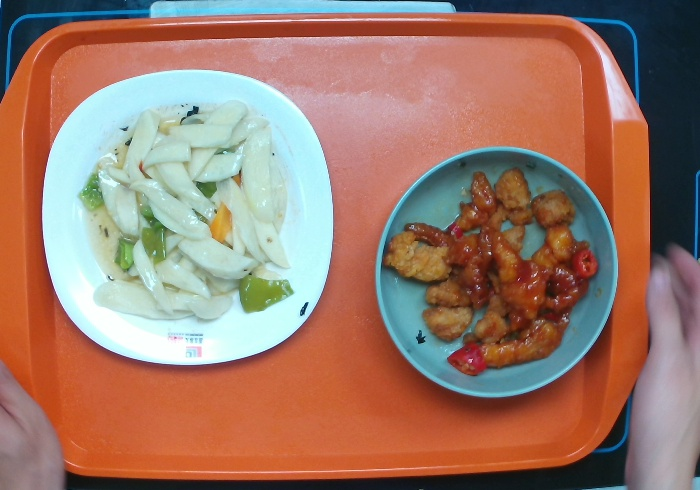ZNLD-Qing_Hua_Yuan_Wan: (376, 141, 630, 410)
ZNLD-Yuan_Jiao_Pan: (37, 48, 361, 373)
